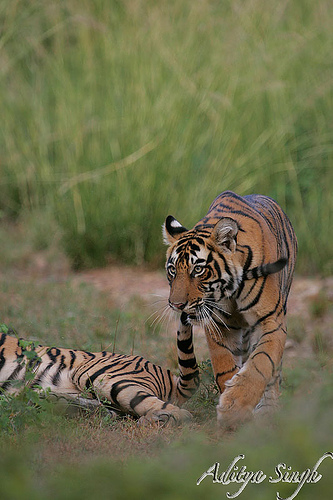Tigre: (154, 184, 314, 450), (1, 319, 192, 443)
